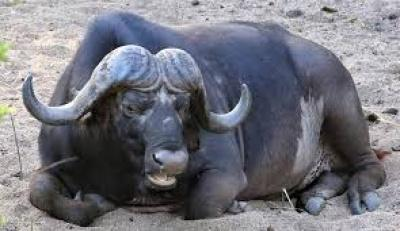buffalo: (24, 23, 383, 223)
